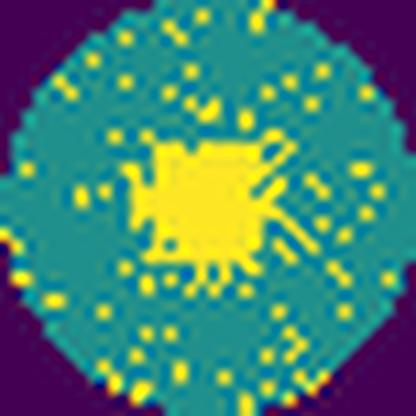Center: (127, 140, 285, 262)
